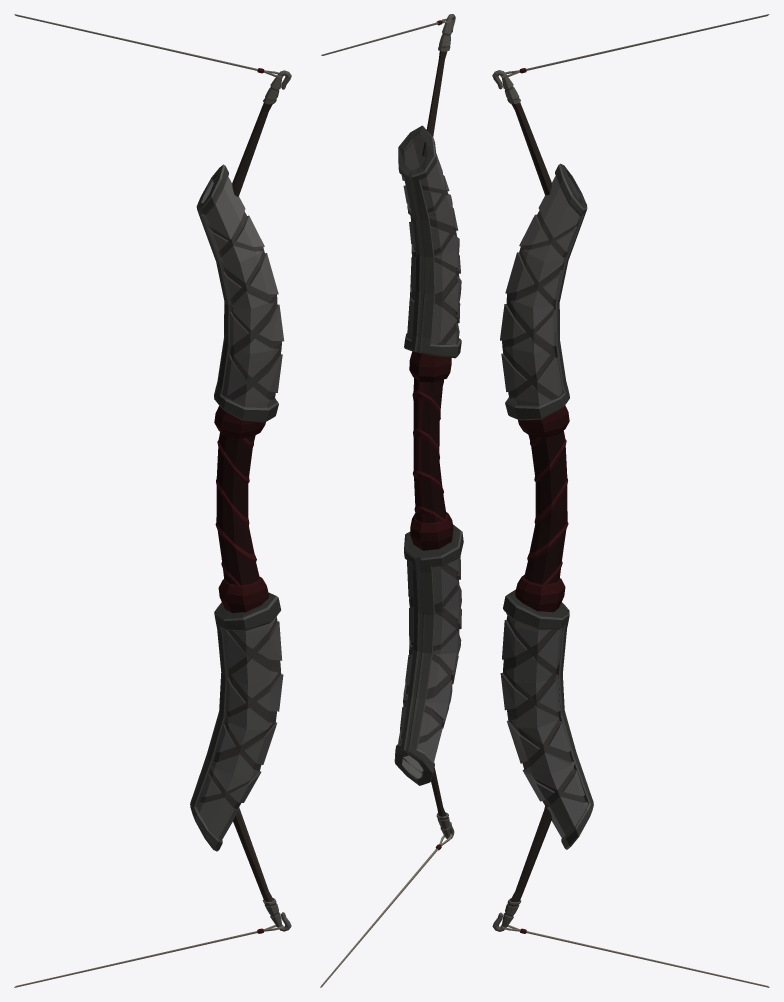
File: mediumBowTacticalHandle.glb
The picture shows the model from 3 angles, left to right: view 1: azimuth 90°, elevation 25°; view 2: azimuth 150°, elevation 25°; view 3: azimuth 270°, elevation 25°; orthographic projection. The views are drawn at different scales.
Visible parts, largest first — view 1: mediumBowTacticalHandle; view 2: mediumBowTacticalHandle; view 3: mediumBowTacticalHandle.
Boxes of the visible parts, <box> form: mediumBowTacticalHandle: <box>14,14,291,987</box>; mediumBowTacticalHandle: <box>320,14,463,987</box>; mediumBowTacticalHandle: <box>492,14,769,987</box>.
Bounding box in the file's own units: 0.0879 × 1.43 × 0.3708.
